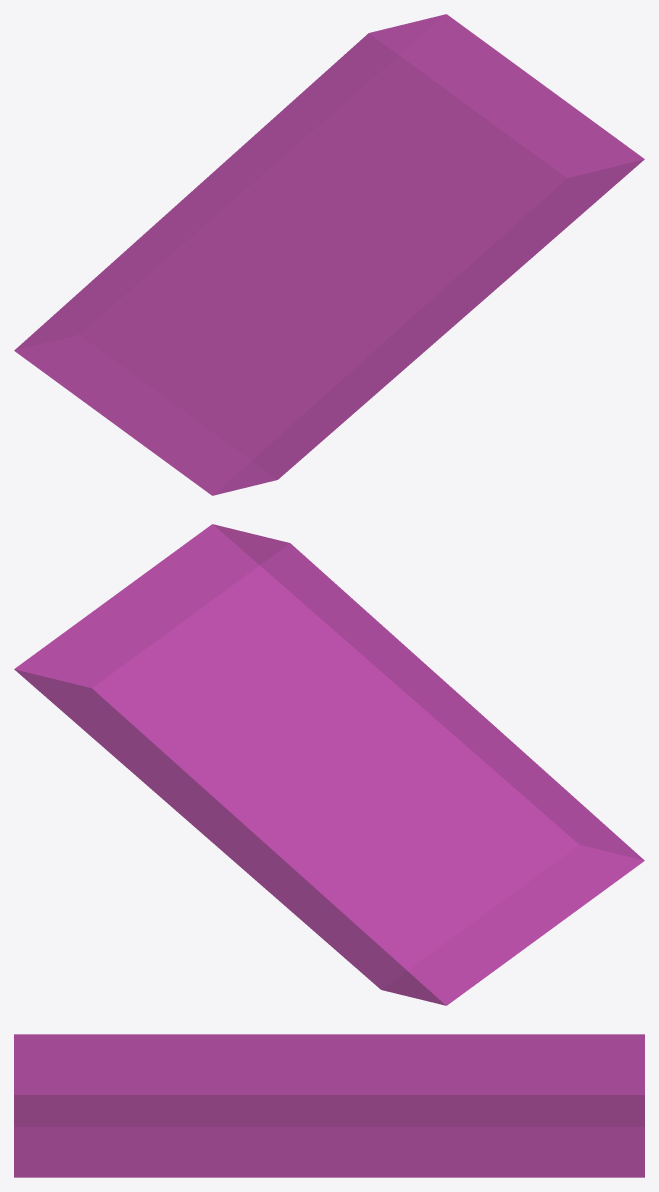
The model's file is SM_Bld_Dock_Stairs_01_Collision.fbx.
The picture shows the model from 3 angles, top to bottom: view 1: azimuth 30°, elevation 25°; view 2: azimuth 150°, elevation 25°; view 3: azimuth 270°, elevation 25°; orthographic projection. The views are drawn at different scales.
Parts seen in each view (by area): view 1: SM_Bld_Dock_Stairs_01_Collision; view 2: SM_Bld_Dock_Stairs_01_Collision; view 3: SM_Bld_Dock_Stairs_01_Collision.
Part boxes in pixels (bbox=[...]): SM_Bld_Dock_Stairs_01_Collision: bbox=[14, 14, 644, 495]; SM_Bld_Dock_Stairs_01_Collision: bbox=[14, 524, 644, 1005]; SM_Bld_Dock_Stairs_01_Collision: bbox=[14, 1034, 644, 1177].
Size of the model in its own units: 310 by 158 by 247.
